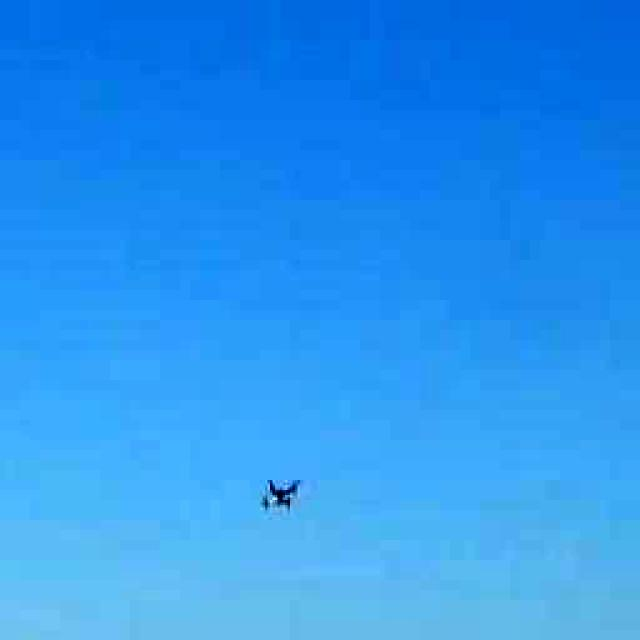bird: (241, 454, 316, 529)
